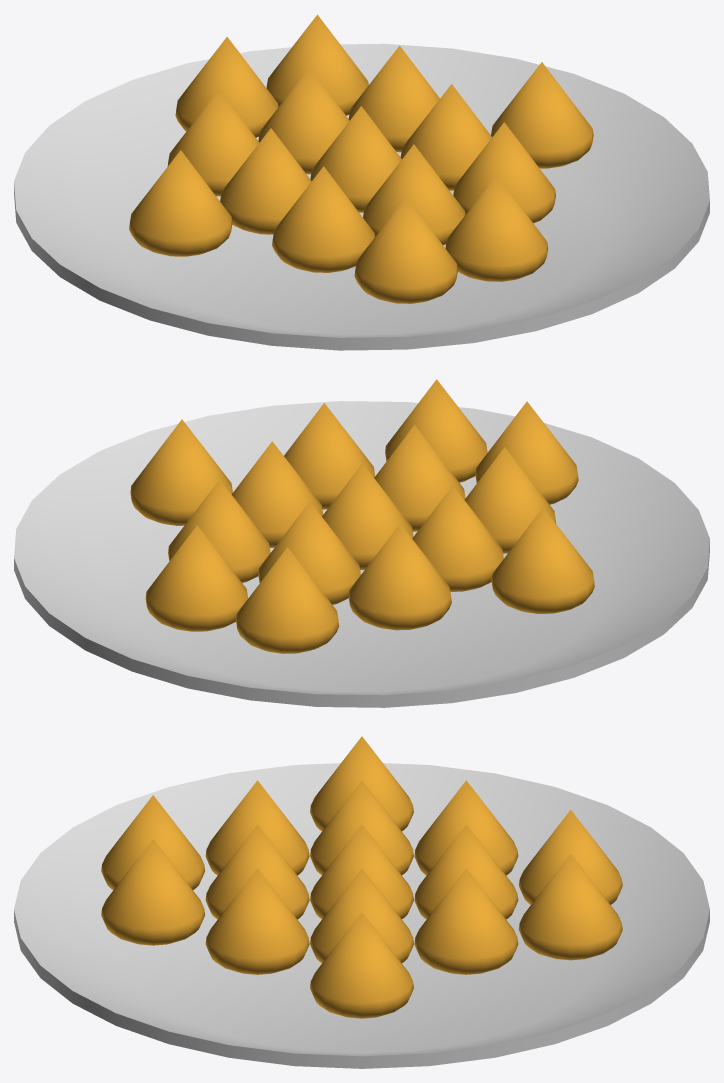
File: Sweets.fbx
3 views of the same model, one above another, from view 1: azimuth 30°, elevation 25°; view 2: azimuth 150°, elevation 25°; view 3: azimuth 270°, elevation 25° (orthographic).
Parts seen in each view (by area): view 1: Plate, Cone, Cone.003, Cone.014, Cone.002, Cone.009, Cone.006, Cone.013, Cone.004, Cone.012, Cone.005, Cone.001 (+4 smaller); view 2: Plate, Cone, Cone.004, Cone.001, Cone.005, Cone.009, Cone.006, Cone.002, Cone.012, Cone.007, Cone.008, Cone.013 (+4 smaller); view 3: Plate, Cone.009, Cone.014, Cone.011, Cone.013, Cone.005, Cone.001, Cone.002, Cone.010, Cone.012, Cone.007, Cone.008 (+4 smaller).
Part boxes in pixels (x1,y1,x2,y2): Plate: (14, 43, 709, 350); Cone: (129, 150, 232, 256); Cone.003: (354, 197, 457, 303); Cone.014: (445, 175, 547, 281); Cone.002: (272, 166, 374, 272); Cone.009: (491, 62, 593, 168); Cone.006: (220, 128, 311, 234); Cone.013: (453, 122, 555, 223); Cone.004: (175, 36, 278, 137); Cone.012: (363, 144, 465, 245); Cone.005: (266, 14, 368, 115); Cone.001: (167, 90, 259, 196); Plate: (14, 401, 709, 707); Cone: (491, 507, 594, 613); Cone.004: (236, 547, 339, 653); Cone.001: (348, 523, 451, 630); Cone.005: (145, 525, 248, 631); Cone.009: (130, 419, 232, 525); Cone.006: (412, 485, 503, 591); Cone.002: (464, 447, 556, 553); Cone.012: (374, 425, 465, 531); Cone.007: (322, 463, 413, 569); Cone.008: (231, 441, 323, 547); Cone.013: (284, 403, 375, 509); Plate: (14, 763, 709, 1068); Cone.009: (310, 912, 413, 1018); Cone.014: (101, 839, 204, 945); Cone.011: (414, 868, 518, 974); Cone.013: (205, 868, 309, 974); Cone.005: (518, 854, 622, 960); Cone.001: (414, 780, 518, 875); Cone.002: (205, 780, 309, 875); Cone.010: (414, 824, 518, 919); Cone.012: (205, 824, 309, 919); Cone.007: (310, 824, 413, 919); Cone.008: (310, 868, 413, 962).
Size of the model in its own units: 200 by 43.95 by 200.
